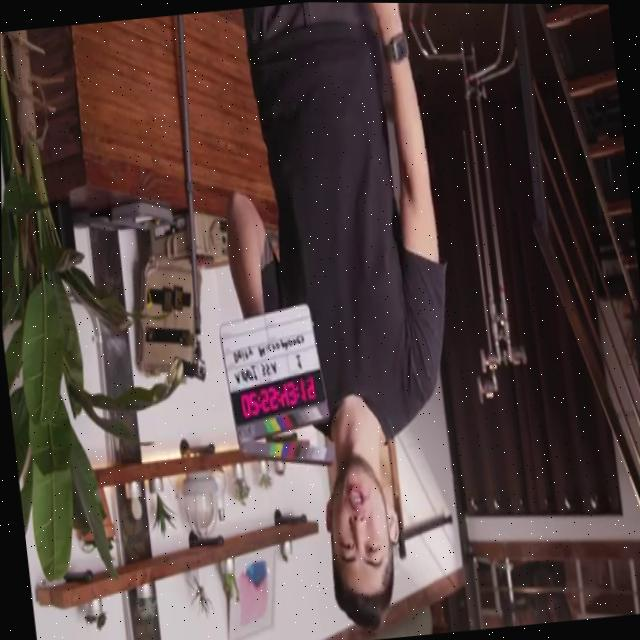Clapperboard: (217, 302, 333, 477)
